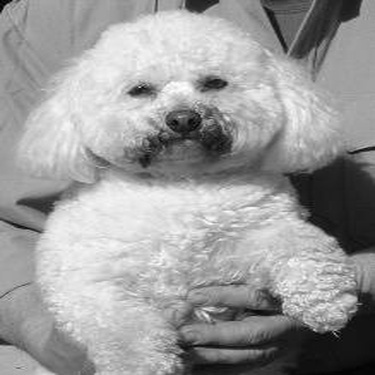dog: (11, 2, 362, 370)
